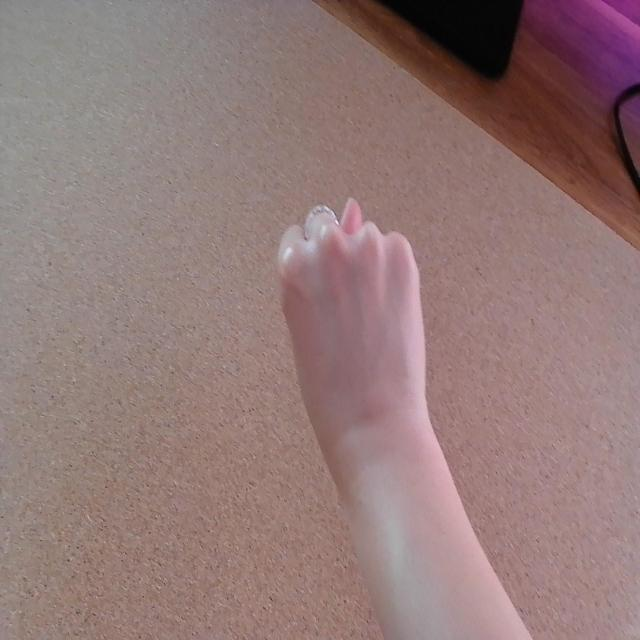N: (274, 192, 446, 478)
